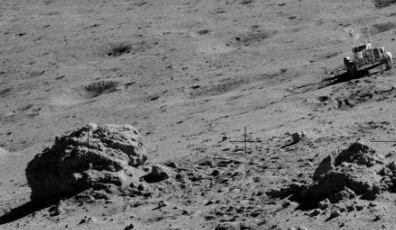rock: (26, 123, 147, 203)
